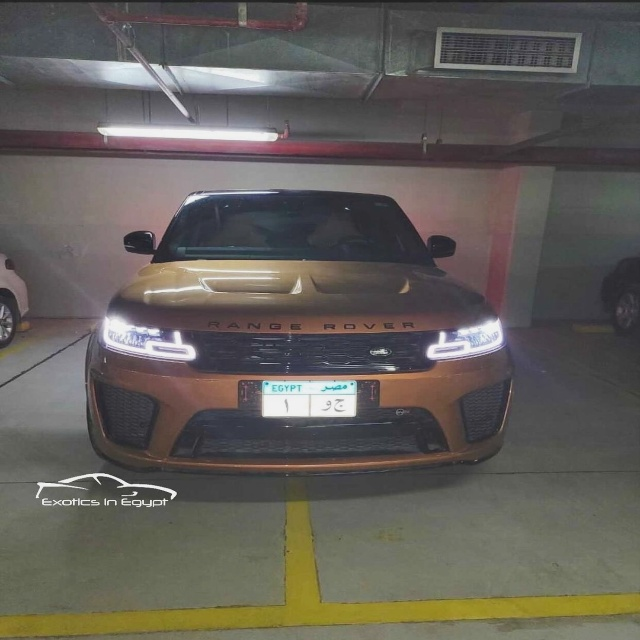License Plate: (260, 379, 360, 420)
